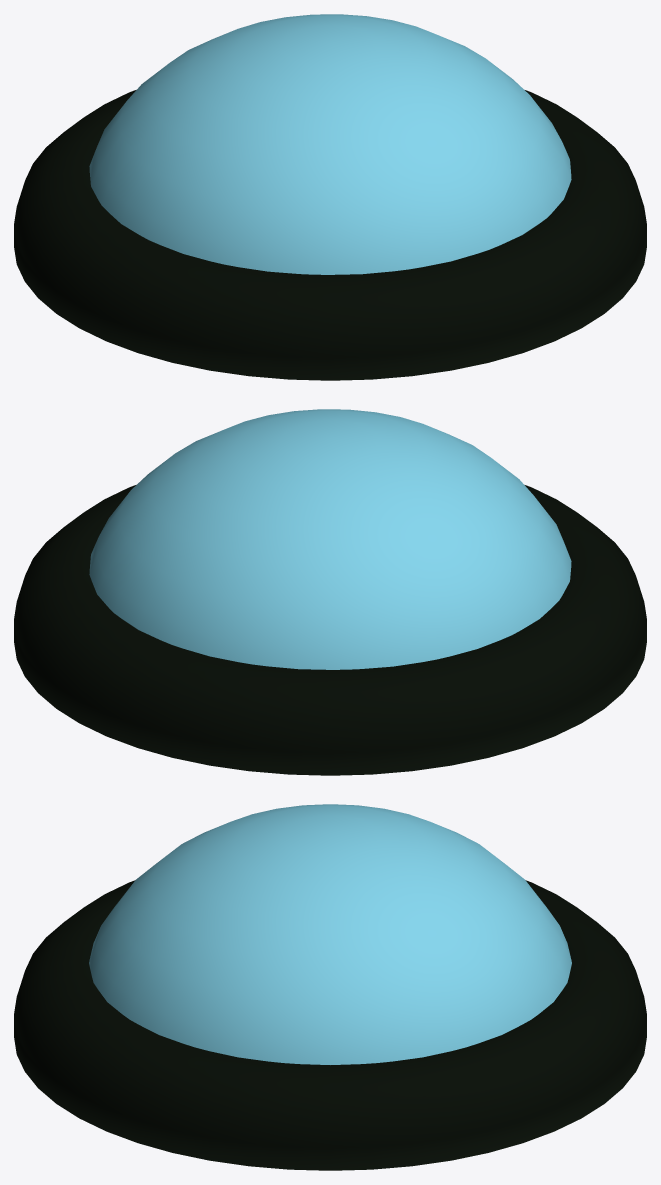
The model's file is ship.fbx.
3 views of the same model, one above another, from view 1: azimuth 30°, elevation 25°; view 2: azimuth 150°, elevation 25°; view 3: azimuth 270°, elevation 25° (orthographic).
Parts seen in each view (by area): view 1: Sphere, Torus; view 2: Sphere, Torus; view 3: Sphere, Torus.
Boxes of the visible parts, box(x1,y1,x2,y2) form: Sphere: box(89, 14, 571, 274); Torus: box(14, 90, 646, 380); Sphere: box(89, 409, 571, 669); Torus: box(14, 485, 646, 775); Sphere: box(89, 804, 571, 1064); Torus: box(14, 880, 646, 1170).
Bounding box in the file's own units: 250 × 95.08 × 250.
